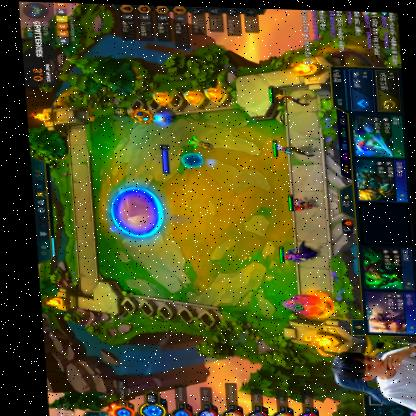streamer: (327, 336, 416, 414)
